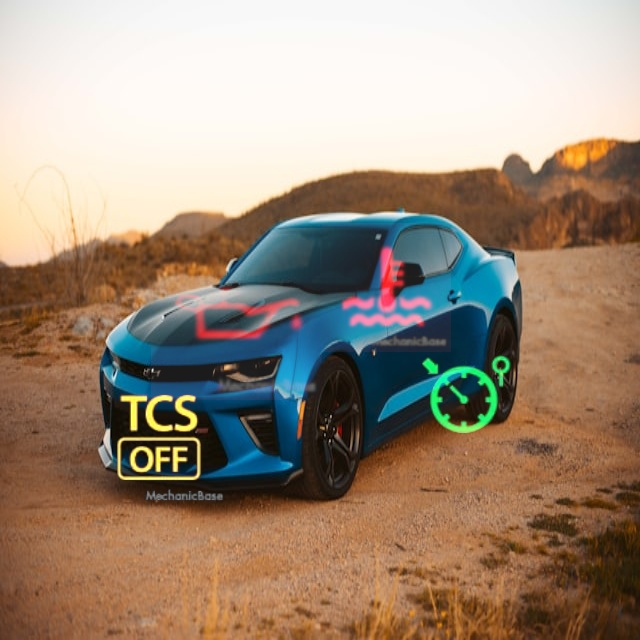symbol: (151, 229, 322, 400), (93, 372, 228, 507), (322, 223, 451, 352), (402, 332, 530, 460)
